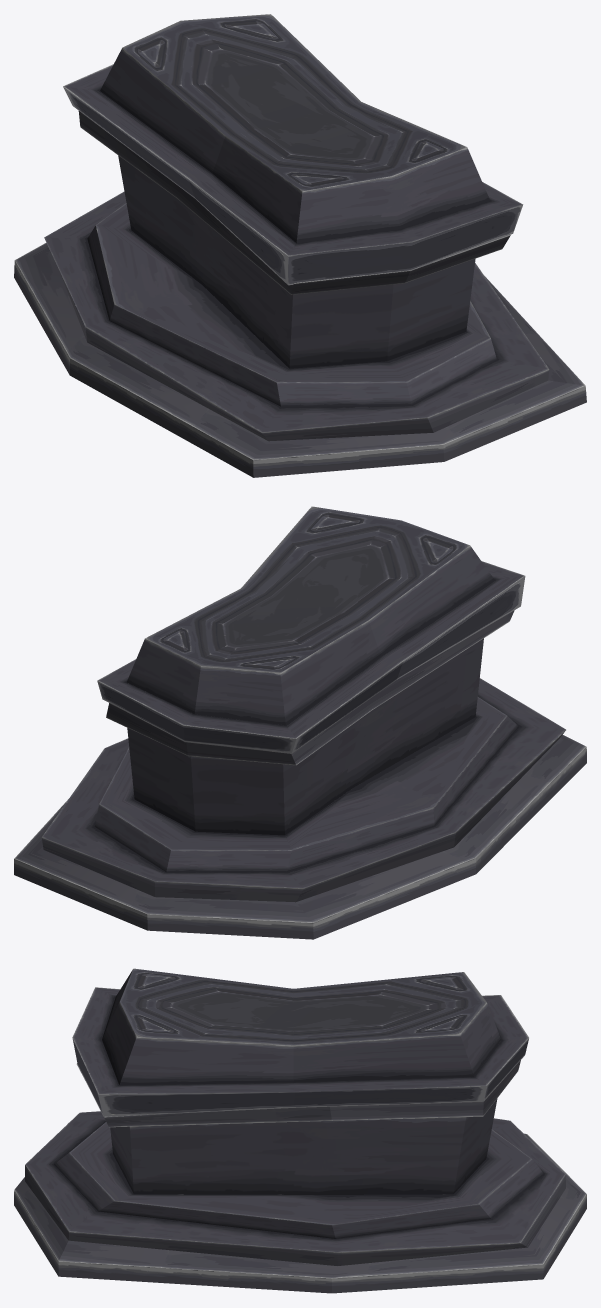
Rendered from SM_PROP_tomb_dungeon_03.fbx.
3 views of the same model, one above another, from view 1: azimuth 30°, elevation 25°; view 2: azimuth 150°, elevation 25°; view 3: azimuth 270°, elevation 25° (orthographic). The views are drawn at different scales.
Parts seen in each view (by area): view 1: SM_PROP_tomb_dungeon_03, SM_PROP_tomb_lid_dungeon_03; view 2: SM_PROP_tomb_dungeon_03, SM_PROP_tomb_lid_dungeon_03; view 3: SM_PROP_tomb_dungeon_03, SM_PROP_tomb_lid_dungeon_03.
Boxes of the visible parts, <box> form: SM_PROP_tomb_dungeon_03: <box>14,111,586,477</box>; SM_PROP_tomb_lid_dungeon_03: <box>63,14,523,285</box>; SM_PROP_tomb_dungeon_03: <box>14,610,586,939</box>; SM_PROP_tomb_lid_dungeon_03: <box>97,506,525,753</box>; SM_PROP_tomb_dungeon_03: <box>14,1060,586,1293</box>; SM_PROP_tomb_lid_dungeon_03: <box>72,968,528,1116</box>.
Bounding box in the file's own units: 274 × 157 × 391.
